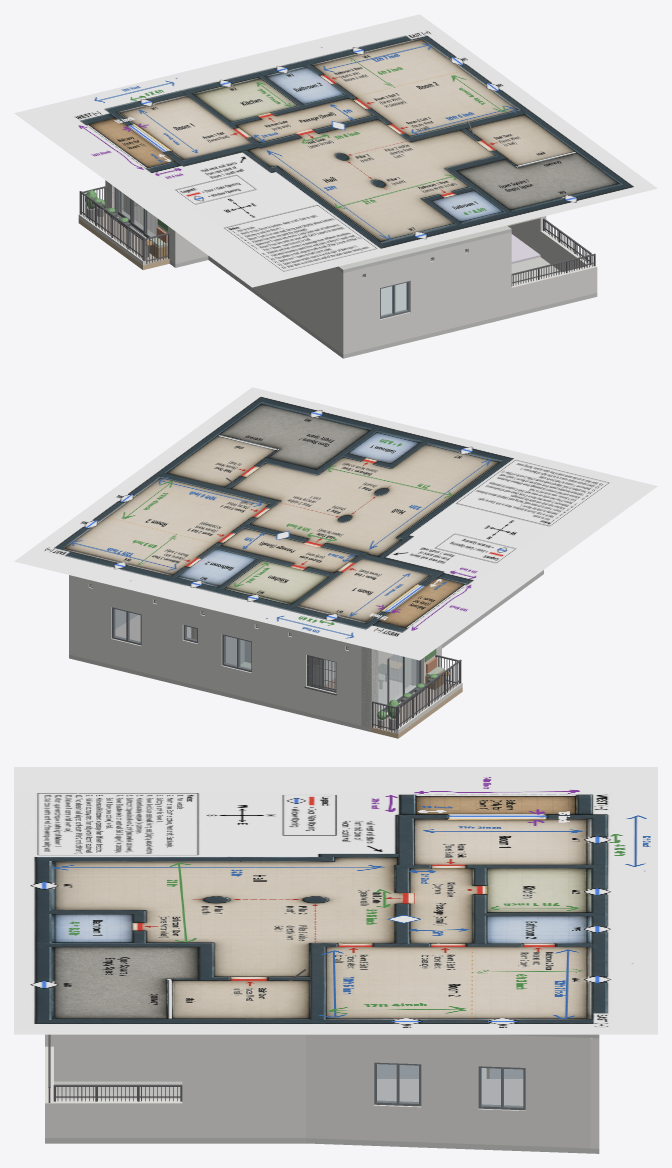
Rendered from MyFlat_V1_1_Room1_DEFAULT.glb.
3 renders of one model, top to bottom at view 1: azimuth 30°, elevation 25°; view 2: azimuth 150°, elevation 25°; view 3: azimuth 270°, elevation 25°, orthographic. The views are drawn at different scales.
Parts seen in each view (by area): view 1: PLAN_REFERENCE_OVERLAY, WALL_EXT_S_HALL, WALL_EXT_W_HALL, SLAB_FLOOR_STRUCTURAL, PARAPET_OPENSQ_S, BALCONY_RAILING_W, SLAB_ROOF, PARAPET_OPENSQ_E, R1_DEF_BALCONY_FLOOR_FINISH, RAILING_OPENSQ_S, WALL_EXT_E_STAIR, WINDOW_W7_GLASS (+4 smaller); view 2: PLAN_REFERENCE_OVERLAY, WALL_EXT_N_R2, WALL_EXT_N_R1, WALL_EXT_N_KIT, WALL_EXT_N_B2, SLAB_FLOOR_STRUCTURAL, BALCONY_RAILING_W, PILLAR_R1_NW, R1_DEF_BALCONY_CURTAIN_SHEER, WALL_EXT_W_R1_BALCONY, WALL_EXT_E_R2_TAPERED, R1_DEF_BALCONY_FLOOR_FINISH (+4 smaller); view 3: PLAN_REFERENCE_OVERLAY, WALL_EXT_E_R2_TAPERED, WALL_EXT_E_STAIR, WALL_INT_OPENSQ_W, PARAPET_OPENSQ_E, SLAB_FLOOR_STRUCTURAL, FLOOR_R2, WINDOW_W5_GLASS, FLOOR_OPENSQ, WINDOW_W6_GLASS, RAILING_OPENSQ_E, WALL_EXT_N_R2 (+4 smaller).
Part boxes in pixels (x1,y1,x2,y2): PLAN_REFERENCE_OVERLAY: (14,14,657,287); WALL_EXT_S_HALL: (340,232,511,354); WALL_EXT_W_HALL: (209,256,348,354); SLAB_FLOOR_STRUCTURAL: (169,256,597,358); PARAPET_OPENSQ_S: (511,264,597,313); BALCONY_RAILING_W: (79,191,144,260); SLAB_ROOF: (335,225,511,273); PARAPET_OPENSQ_E: (540,230,593,272); R1_DEF_BALCONY_FLOOR_FINISH: (93,212,168,264); RAILING_OPENSQ_S: (511,253,595,286); WALL_EXT_E_STAIR: (508,216,546,254); WINDOW_W7_GLASS: (381,282,407,316); PLAN_REFERENCE_OVERLAY: (14,387,657,660); WALL_EXT_N_R2: (69,575,171,679); WALL_EXT_N_R1: (265,623,372,727); WALL_EXT_N_KIT: (208,609,264,701); WALL_EXT_N_B2: (172,600,208,688); SLAB_FLOOR_STRUCTURAL: (69,570,543,731); BALCONY_RAILING_W: (396,659,461,729); PILLAR_R1_NW: (361,646,378,727); R1_DEF_BALCONY_CURTAIN_SHEER: (378,654,411,708); WALL_EXT_W_R1_BALCONY: (362,647,438,727); WALL_EXT_E_R2_TAPERED: (69,575,138,655); R1_DEF_BALCONY_FLOOR_FINISH: (373,683,454,732); PLAN_REFERENCE_OVERLAY: (14,767,657,1034); WALL_EXT_E_R2_TAPERED: (306,1034,590,1148); WALL_EXT_E_STAIR: (182,1034,305,1137); WALL_INT_OPENSQ_W: (54,1034,182,1081); PARAPET_OPENSQ_E: (54,1099,182,1137); SLAB_FLOOR_STRUCTURAL: (45,1081,599,1153); FLOOR_R2: (377,1079,523,1105); WINDOW_W5_GLASS: (481,1068,523,1106); FLOOR_OPENSQ: (54,1081,182,1099); WINDOW_W6_GLASS: (377,1064,418,1103); RAILING_OPENSQ_E: (53,1084,182,1101); WALL_EXT_N_R2: (590,1038,599,1148).
Size of what is drawn, in the model's own units: 16.28 by 4.33 by 16.55.
Materials: 52 (1 with a texture image).
